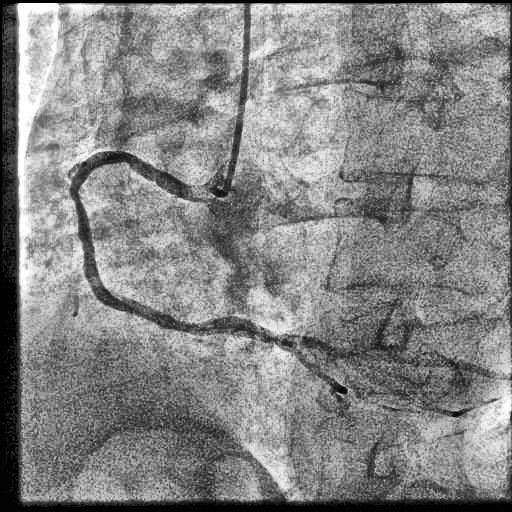pborca: (280, 336, 379, 357)
pda: (276, 340, 347, 396)
rca: (70, 151, 280, 343)
